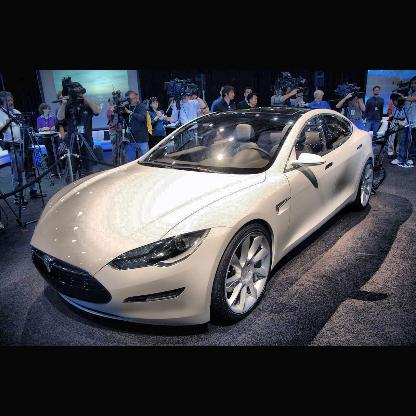Tesla Model S Sedan 2012: (31, 105, 377, 330)
